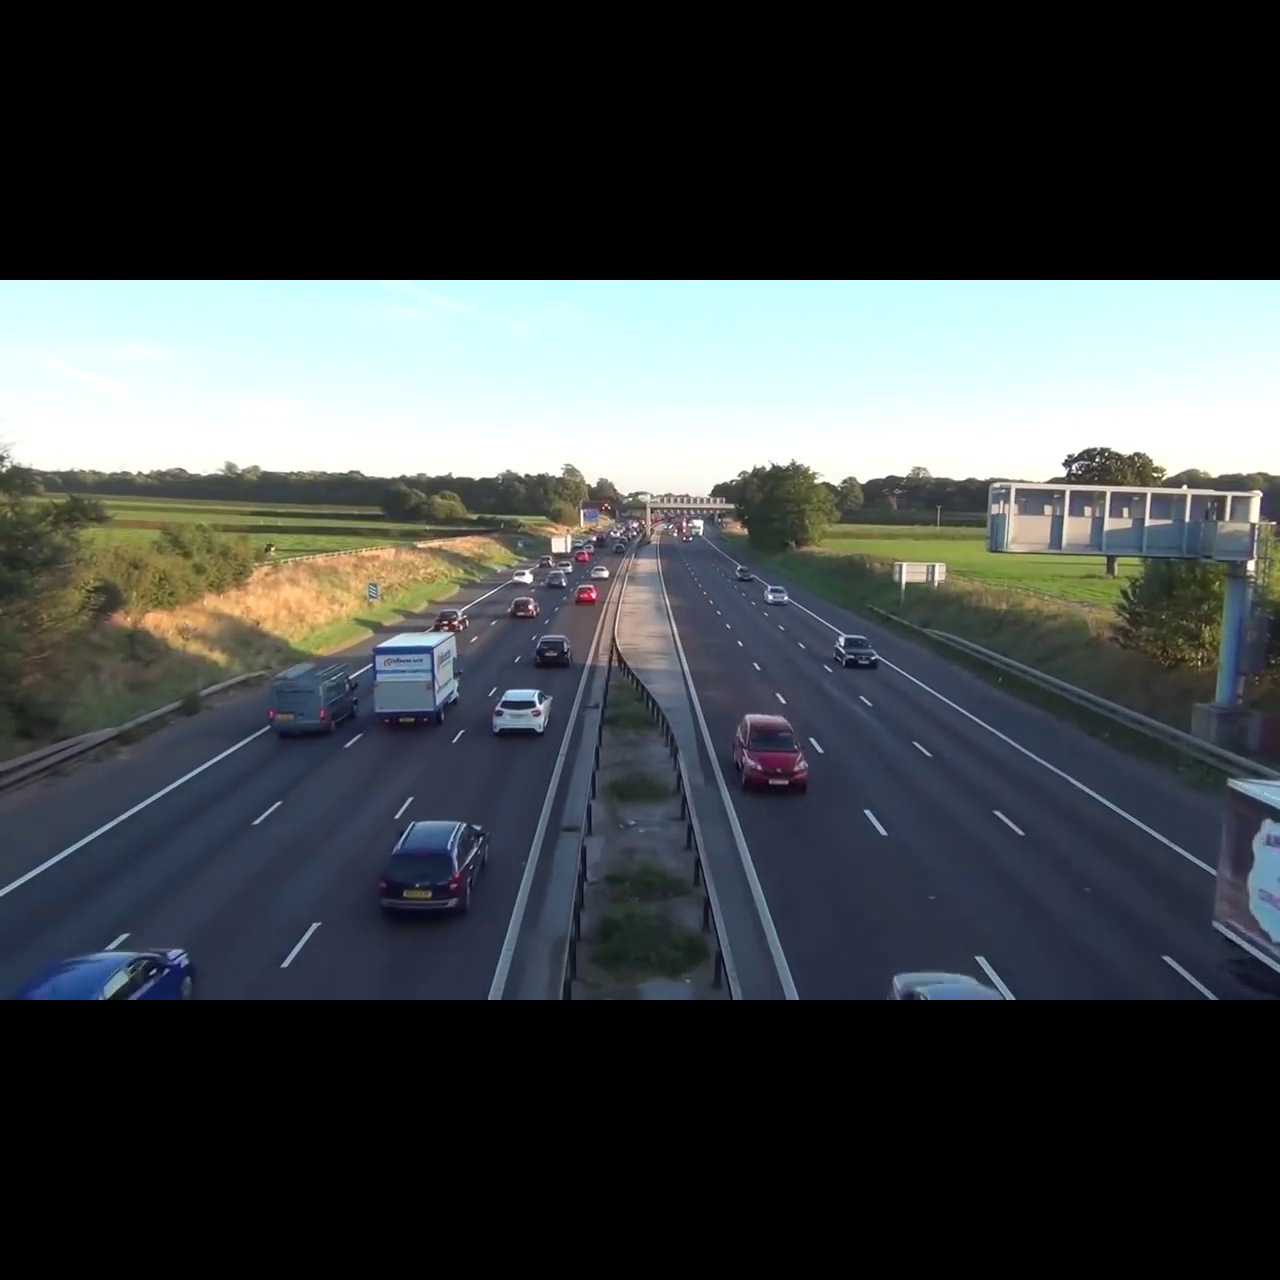vehicle: (373, 813, 496, 922), (23, 939, 207, 1000), (372, 629, 464, 729), (727, 704, 813, 796), (267, 656, 361, 736), (488, 685, 556, 735), (825, 629, 883, 672), (535, 631, 578, 669), (431, 605, 471, 632), (508, 595, 542, 619), (764, 581, 791, 610), (572, 583, 597, 604), (510, 568, 536, 587), (733, 563, 756, 583), (545, 570, 570, 588), (588, 564, 611, 581)
